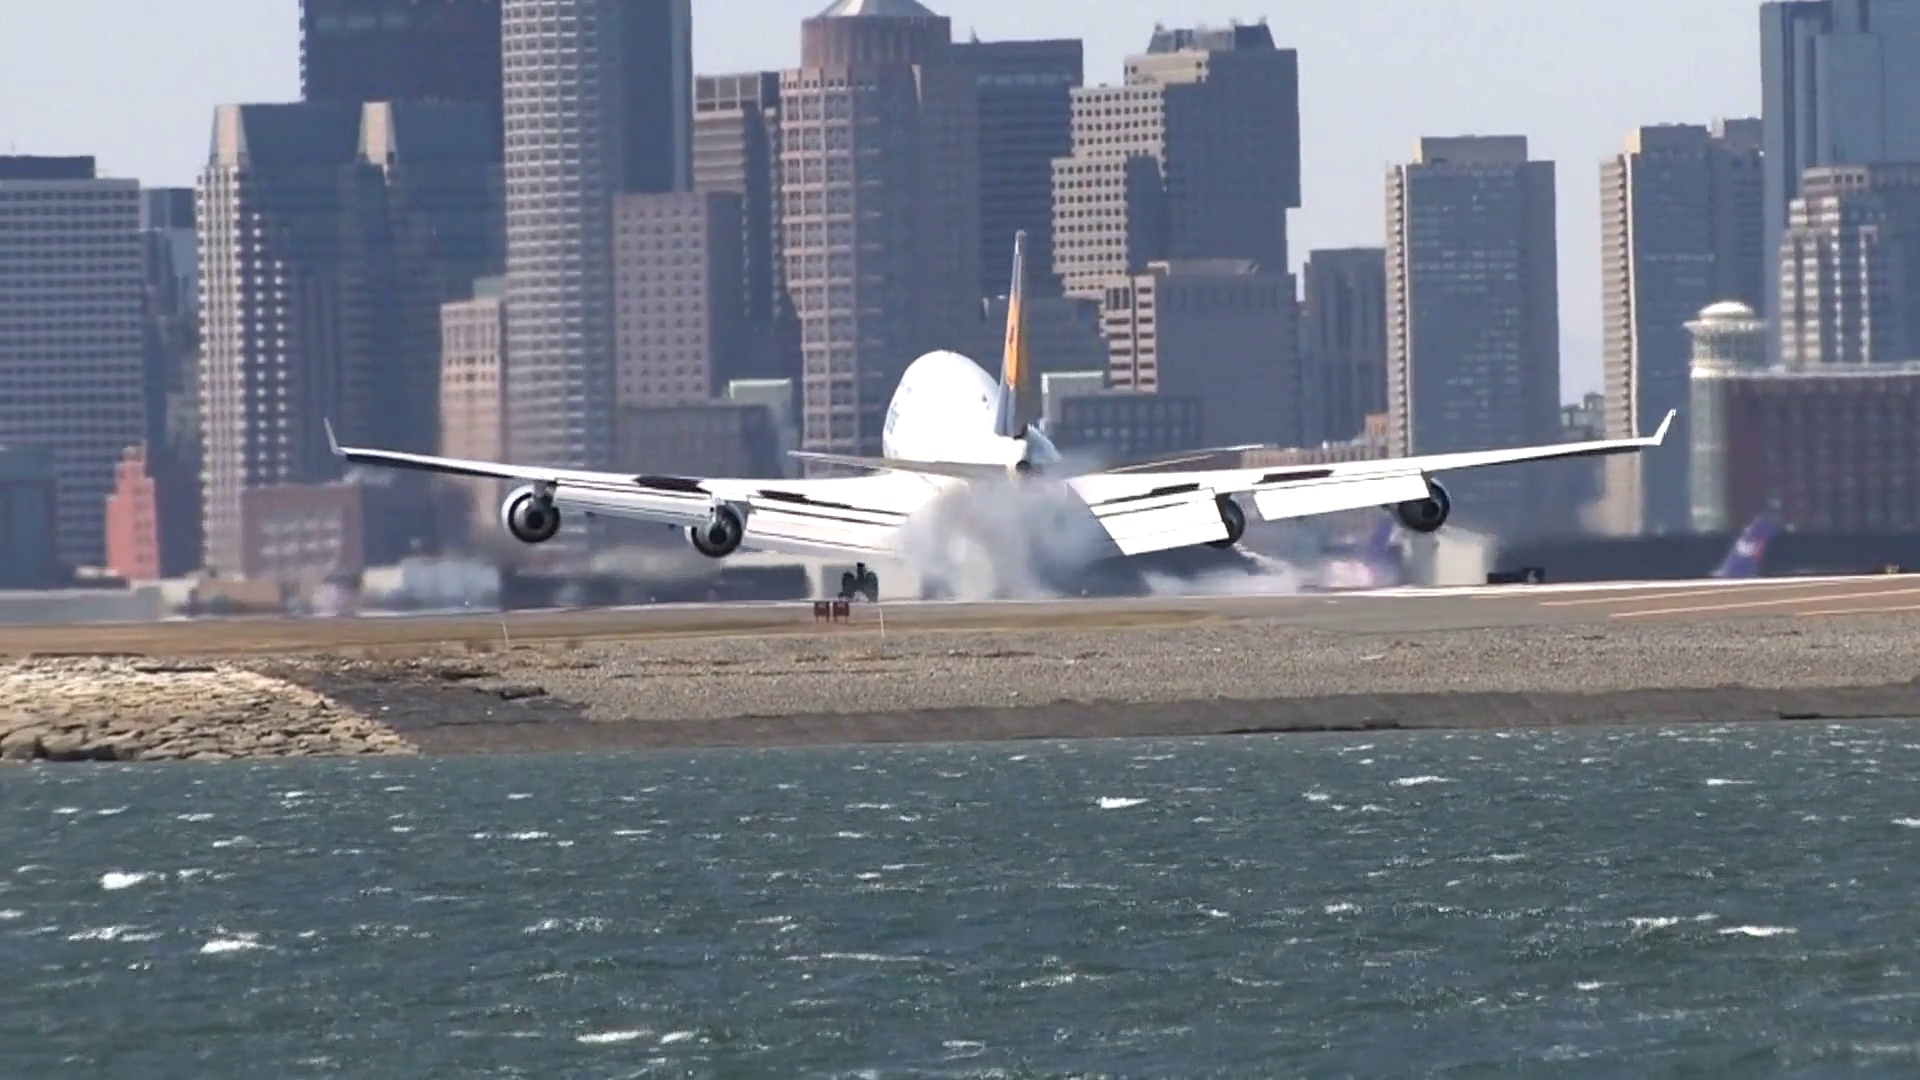plane: (324, 231, 1677, 603)
